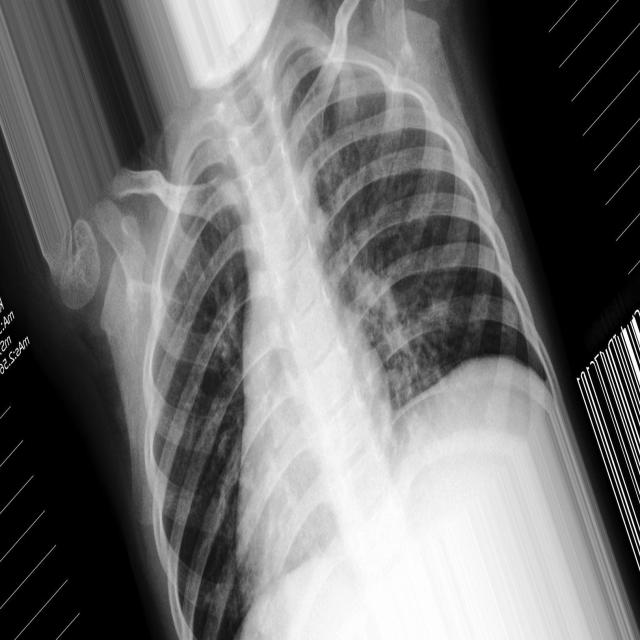viral_pneumonia: (51, 0, 640, 640)
